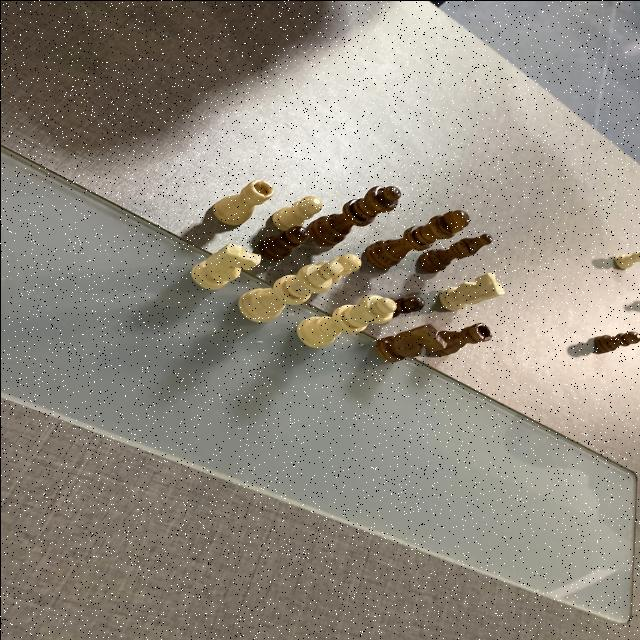Black-Bishop: (418, 232, 492, 274)
Black-King: (364, 208, 470, 268)
Black-Knight: (374, 322, 446, 364)
Black-Pawn: (262, 225, 308, 259), (592, 329, 640, 354), (389, 294, 424, 318)
Black-Queen: (307, 184, 401, 247)
Black-Rook: (431, 320, 492, 354)
White-King: (235, 259, 344, 323)
White-Knight: (187, 241, 261, 290), (434, 270, 504, 313)
White-Pawn: (270, 194, 324, 230)
White-Queen: (295, 294, 396, 348)
White-Rook: (208, 176, 276, 225)
